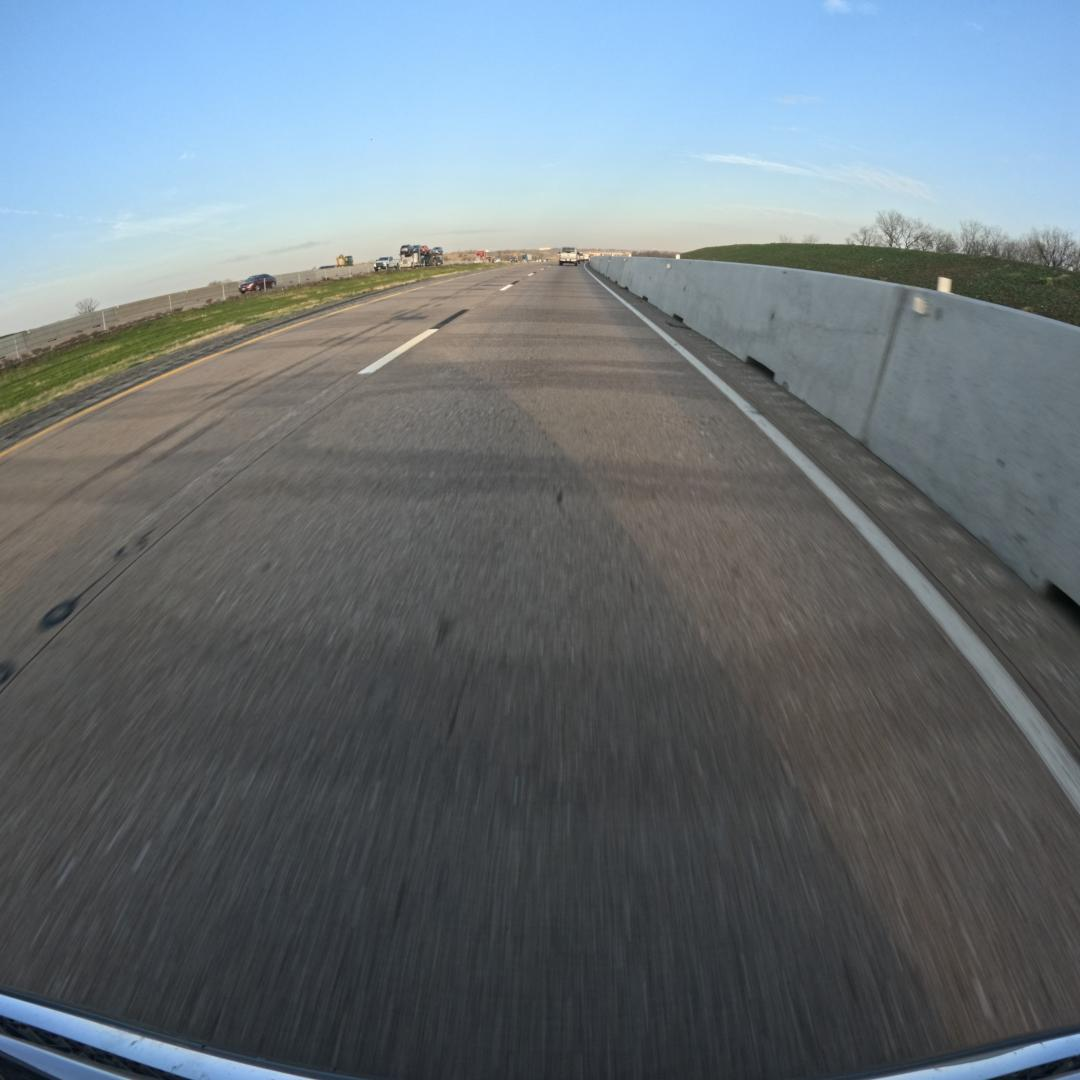lane0: (0, 267, 1080, 1077)
lane1: (0, 265, 536, 692)
